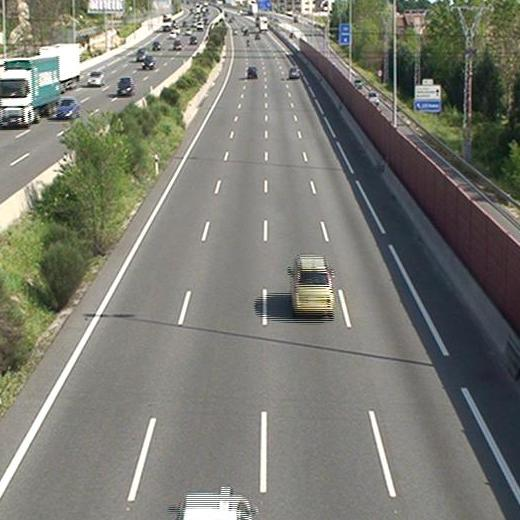car: (289, 255, 333, 315), (246, 66, 257, 79), (288, 67, 299, 79)
